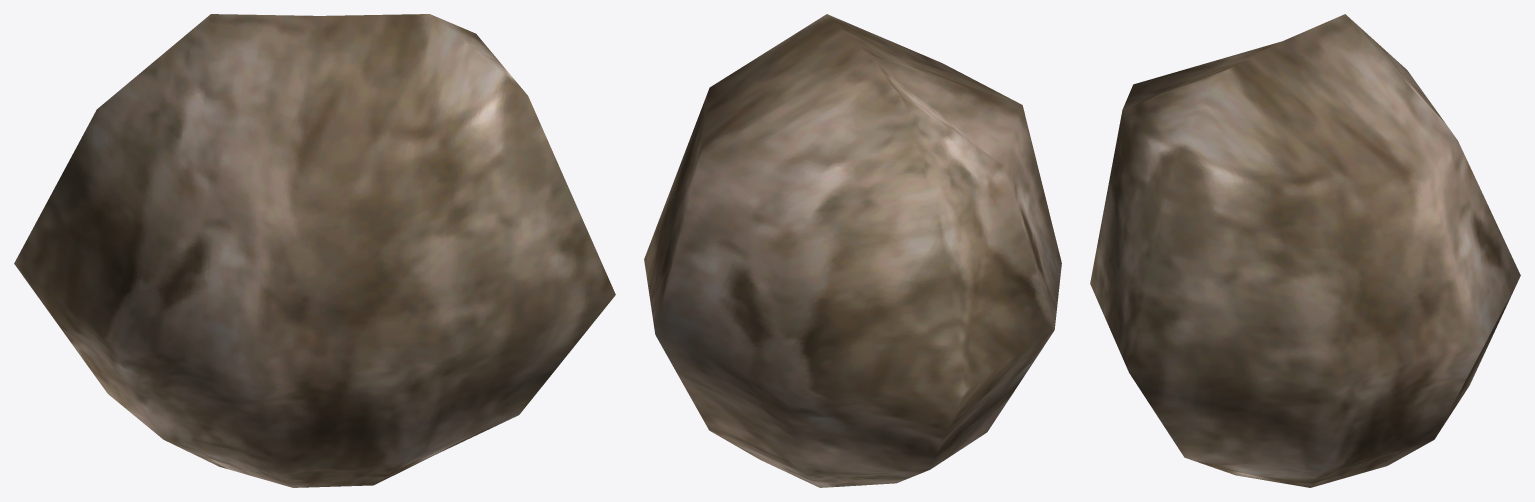
Rendered from OVERHILL_A_01_ROCK84.fbx.
3 renders of one model, left to right at view 1: azimuth 30°, elevation 25°; view 2: azimuth 150°, elevation 25°; view 3: azimuth 270°, elevation 25°, orthographic. The views are drawn at different scales.
Parts seen in each view (by area): view 1: OVERHILL_A_01_ROCK84; view 2: OVERHILL_A_01_ROCK84; view 3: OVERHILL_A_01_ROCK84.
Boxes of the visible parts, x1=… form: OVERHILL_A_01_ROCK84: x1=14, y1=14, x2=615, y2=487; OVERHILL_A_01_ROCK84: x1=644, y1=14, x2=1061, y2=487; OVERHILL_A_01_ROCK84: x1=1090, y1=14, x2=1520, y2=487.
Bounding box in the file's own units: 12263 × 11903 × 11587.
Materials: 1 (1 with a texture image).
